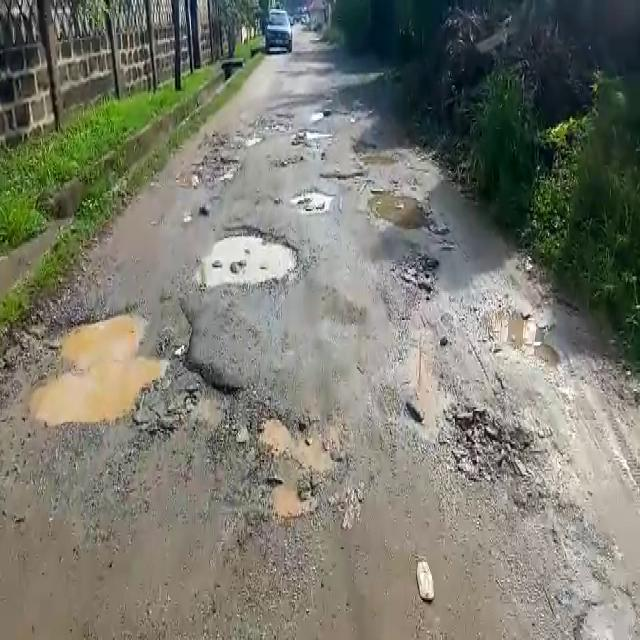Pothole: (17, 294, 246, 438), (240, 404, 352, 528), (442, 404, 539, 490), (202, 223, 304, 290), (480, 306, 563, 372), (368, 190, 433, 232), (179, 156, 242, 194), (288, 186, 332, 213), (319, 168, 374, 185)
